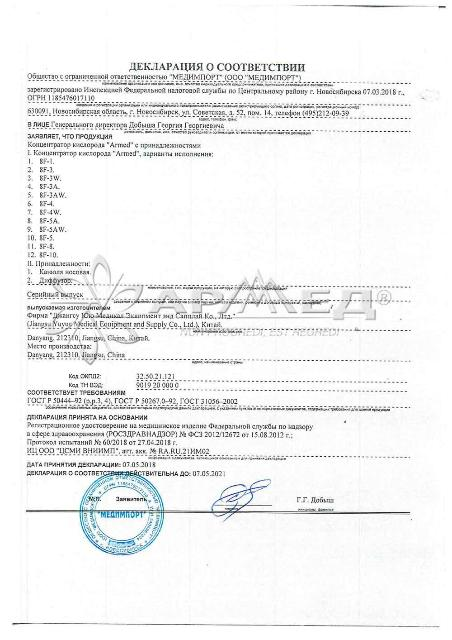stamp: (79, 472, 164, 556)
